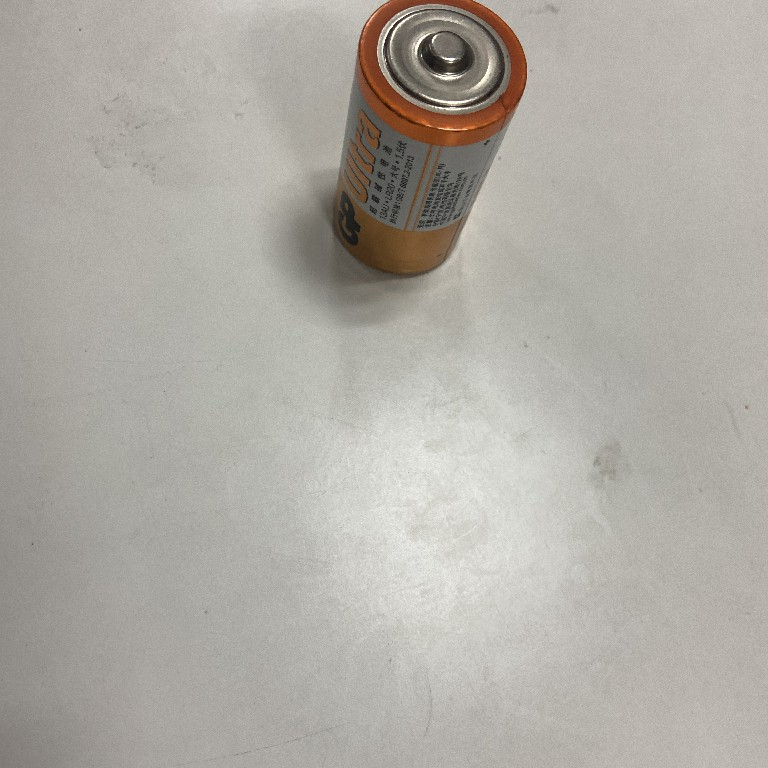charge: (325, 1, 531, 277)
